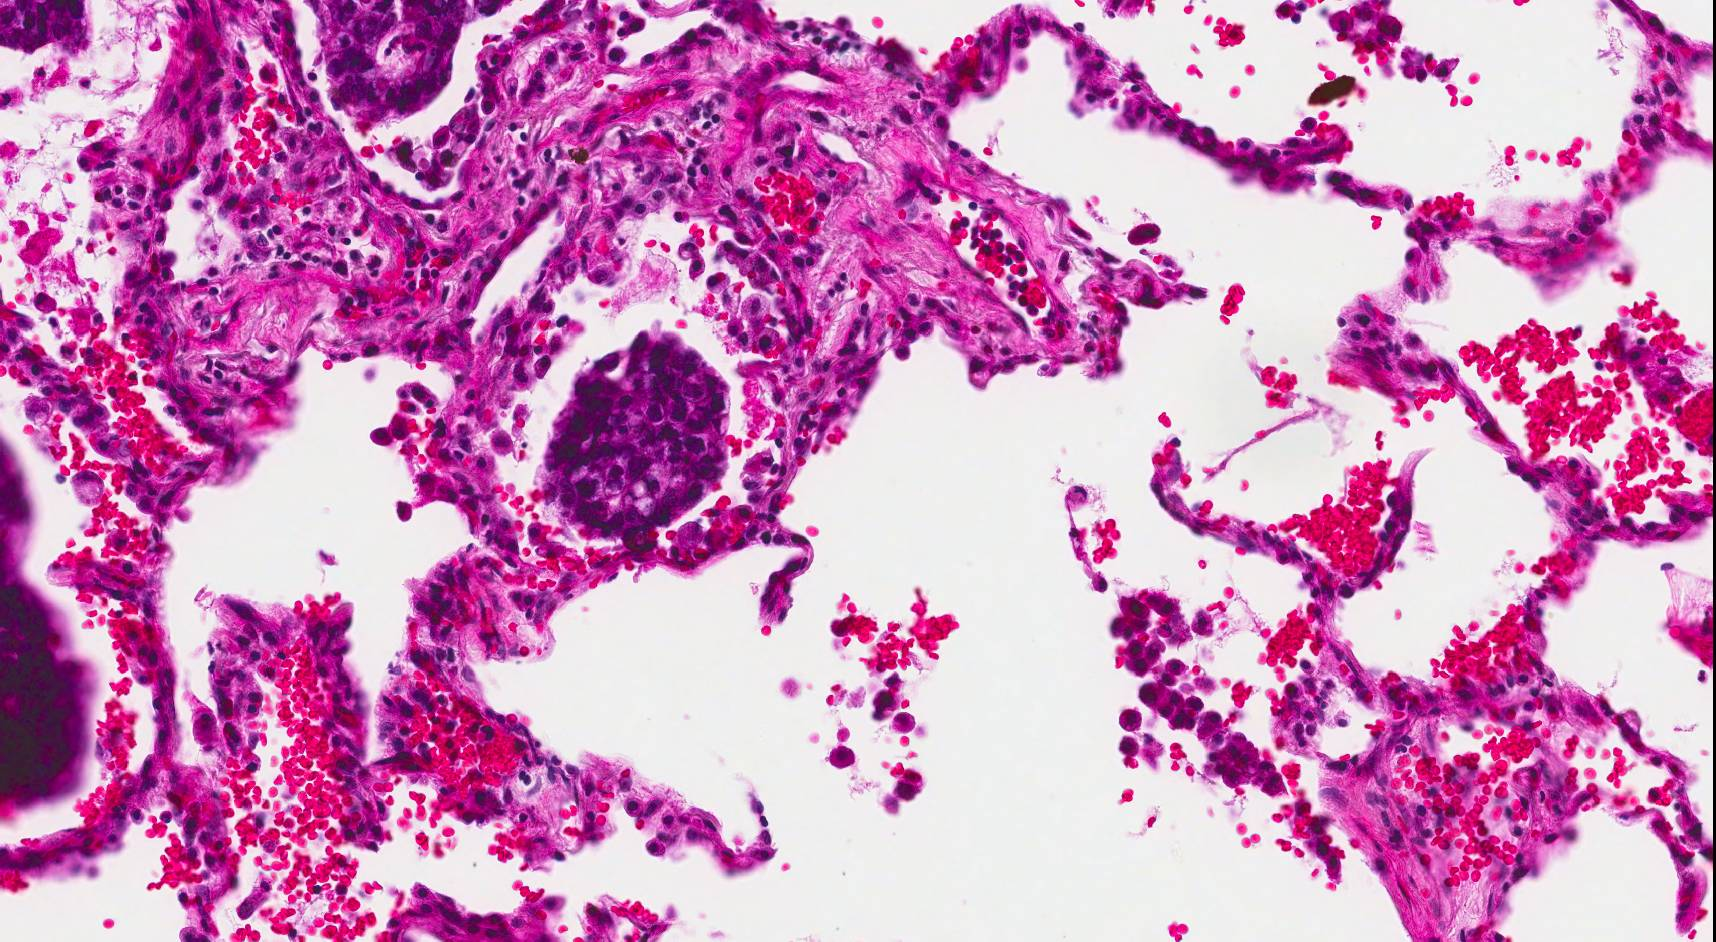stas: (536, 328, 736, 549)
